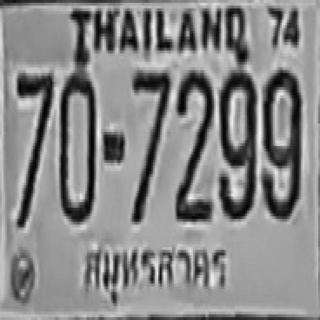N00: (59, 83, 104, 230)
N02: (178, 65, 219, 242)
N07: (0, 62, 60, 228), (121, 57, 171, 240)
N09: (257, 59, 312, 238), (212, 55, 256, 233)
P58: (77, 240, 248, 310)
